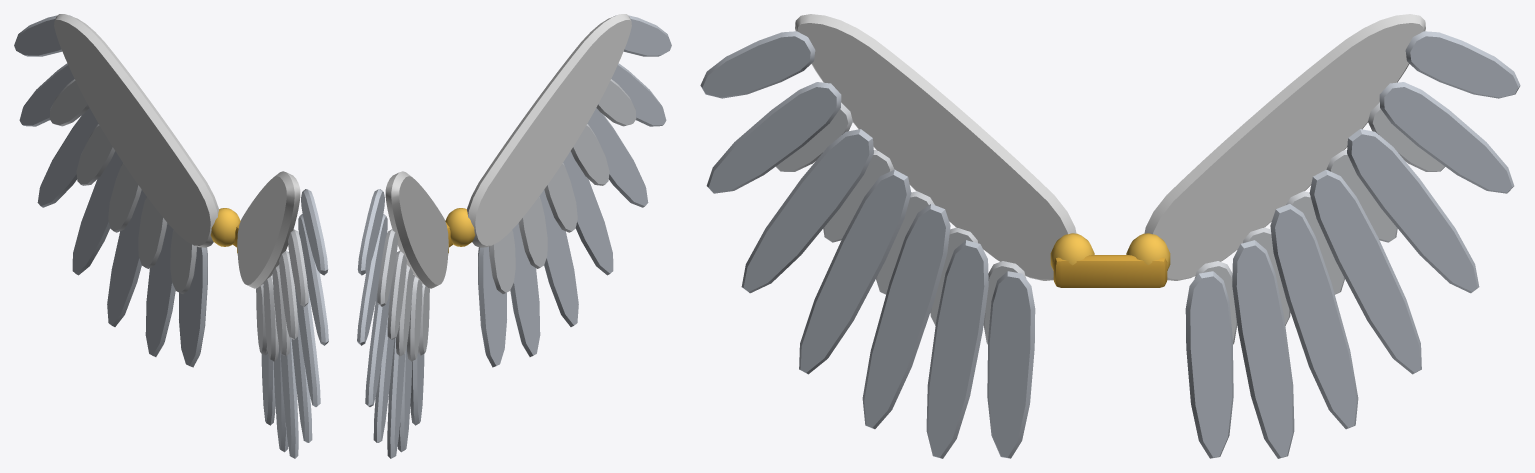
File: detail_wings.glb
The picture shows the model from 3 angles, left to right: view 1: azimuth 30°, elevation 25°; view 2: azimuth 150°, elevation 25°; view 3: azimuth 270°, elevation 25°; orthographic projection. The views are drawn at different scales.
Parts seen in each view (by area): view 1: detail_wings; view 2: detail_wings; view 3: detail_wings.
Part boxes in pixels (x1=…): detail_wings: x1=14, y1=14, x2=328, y2=458; detail_wings: x1=357, y1=14, x2=671, y2=458; detail_wings: x1=700, y1=14, x2=1520, y2=458.
Bounding box in the file's own units: 0.35 × 1.22 × 2.17.
